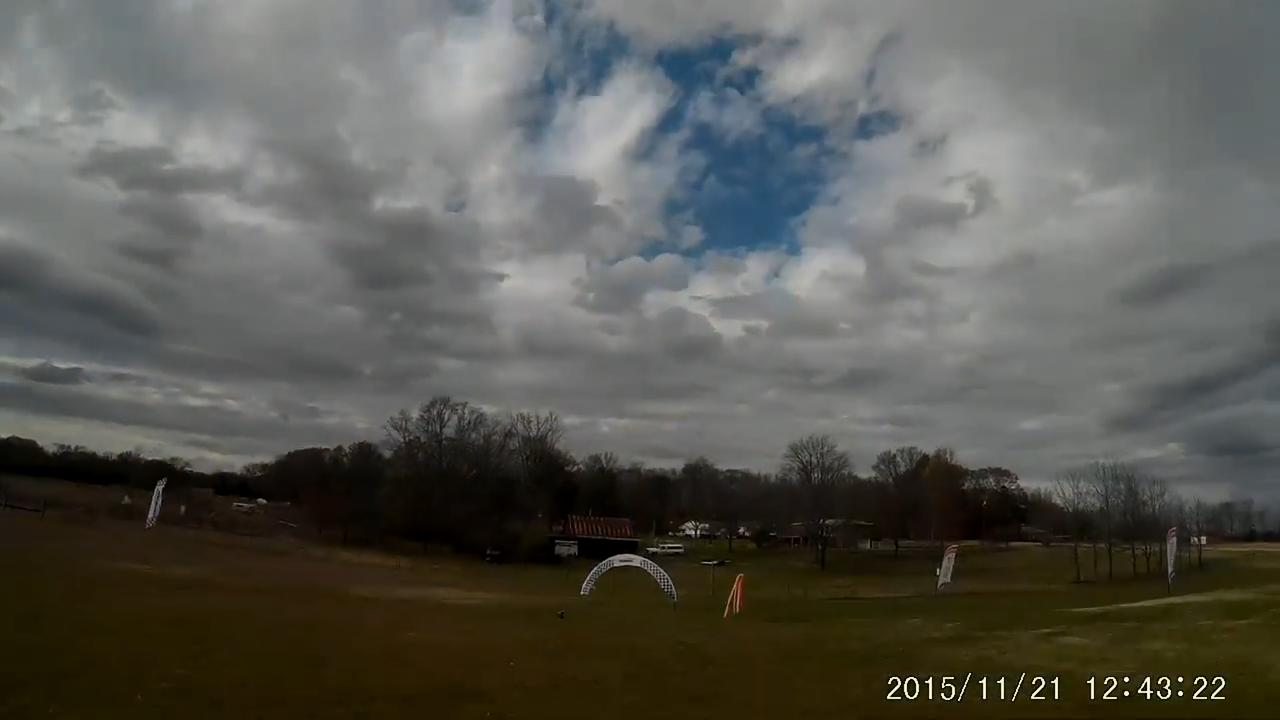gate: (578, 553, 678, 605)
